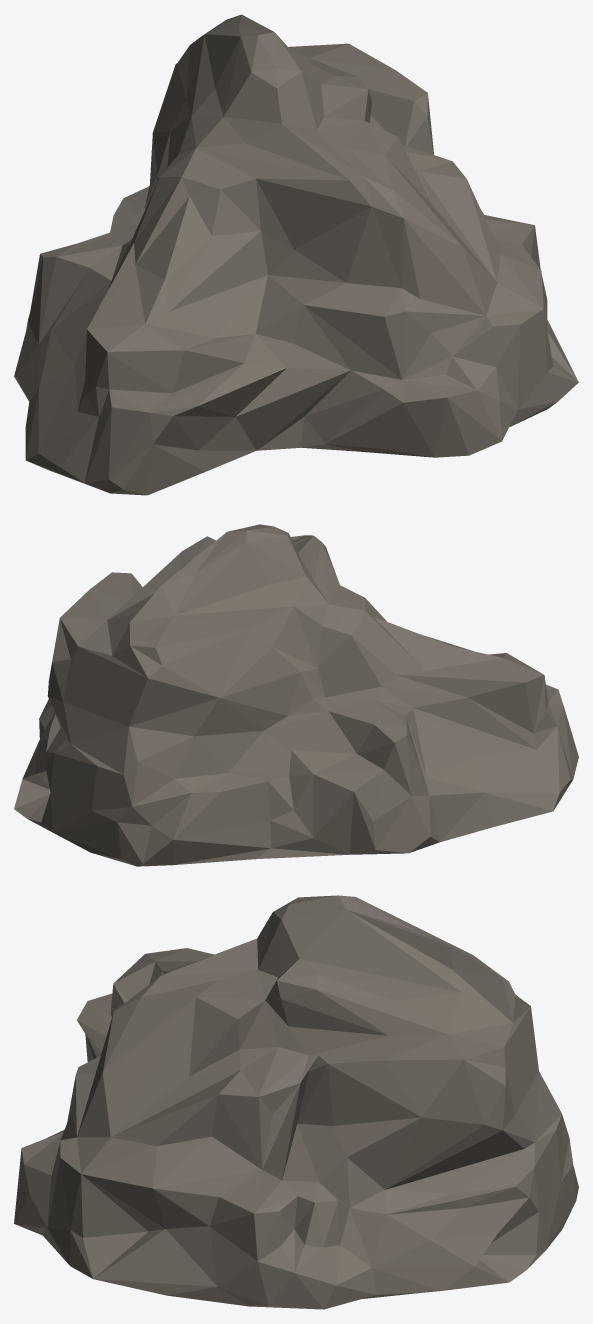
Rendered from SM_Env_Rock_Huge_02.fbx.glb.
The picture shows the model from 3 angles, top to bottom: view 1: azimuth 30°, elevation 25°; view 2: azimuth 150°, elevation 25°; view 3: azimuth 270°, elevation 25°; orthographic projection. The views are drawn at different scales.
Parts seen in each view (by area): view 1: node_id4; view 2: node_id4; view 3: node_id4.
Boxes of the visible parts, <box> form: node_id4: <box>14,14,578,495</box>; node_id4: <box>14,524,578,866</box>; node_id4: <box>14,895,578,1309</box>.
Bounding box in the file's own units: 0.512 × 0.2789 × 0.4709.
Materials: 1 (1 with a texture image).
